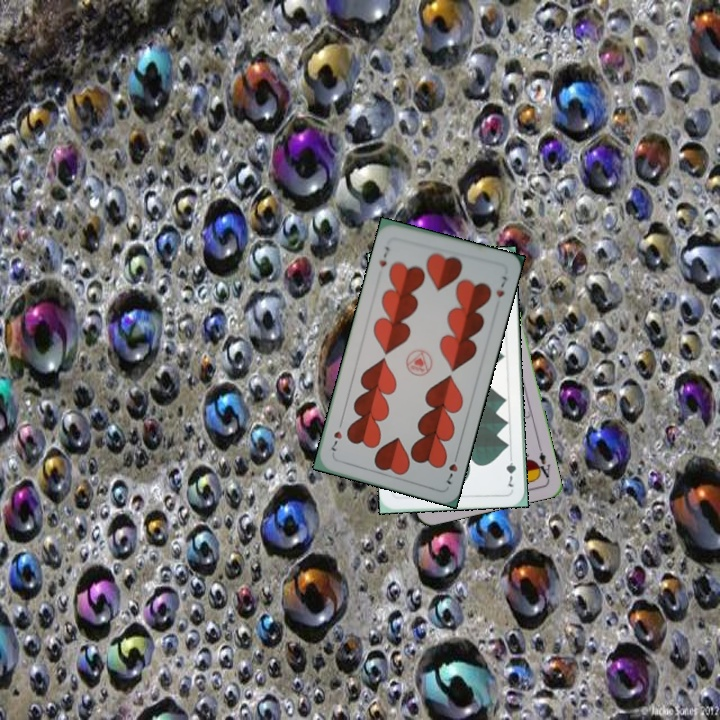EA: (532, 442, 553, 482)
G7: (502, 450, 518, 489)
H7: (442, 449, 461, 487), (375, 242, 393, 269)
